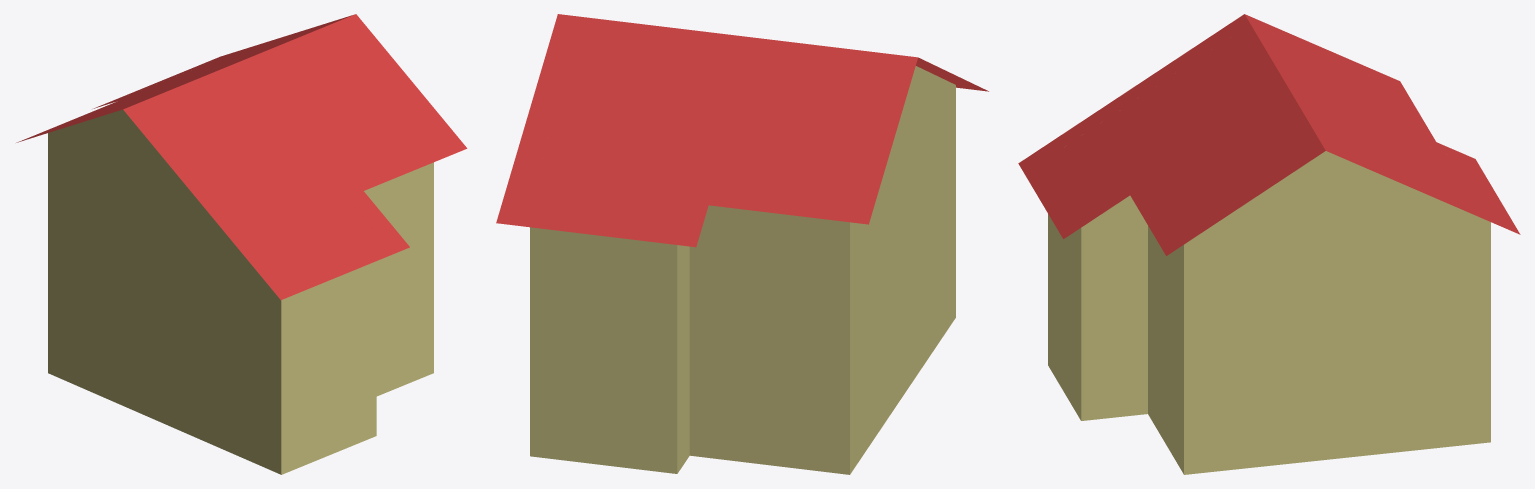
3 renders of one model, left to right at view 1: azimuth 30°, elevation 25°; view 2: azimuth 150°, elevation 25°; view 3: azimuth 270°, elevation 25°, orthographic. The views are drawn at different scales.
Size of the model in its own units: 12.34 by 15.38 by 10.8.
